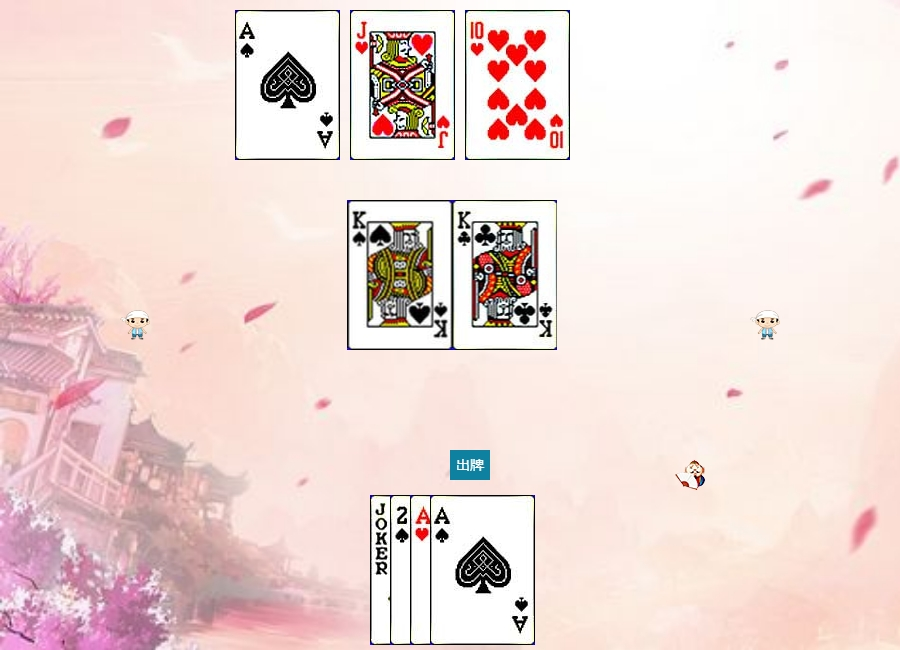10~3: (465, 10, 570, 160)
11~3: (350, 10, 455, 160)
13~2: (453, 200, 558, 350)
13~4: (348, 200, 453, 350)
14~3: (410, 495, 515, 645)
14~4: (235, 10, 340, 160), (430, 495, 535, 645)
15~4: (390, 495, 495, 645)
17~3: (370, 495, 475, 645)
